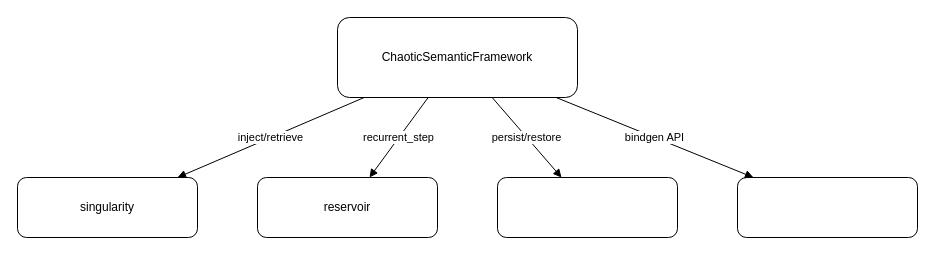
The diagram is 935 pixels wide and 255 high, and some of its shapes have lost their labels. Each missing label, with the centre of its shape:
"turso/libSQL" goes at [587,207].
"wasm" goes at [827,207].
